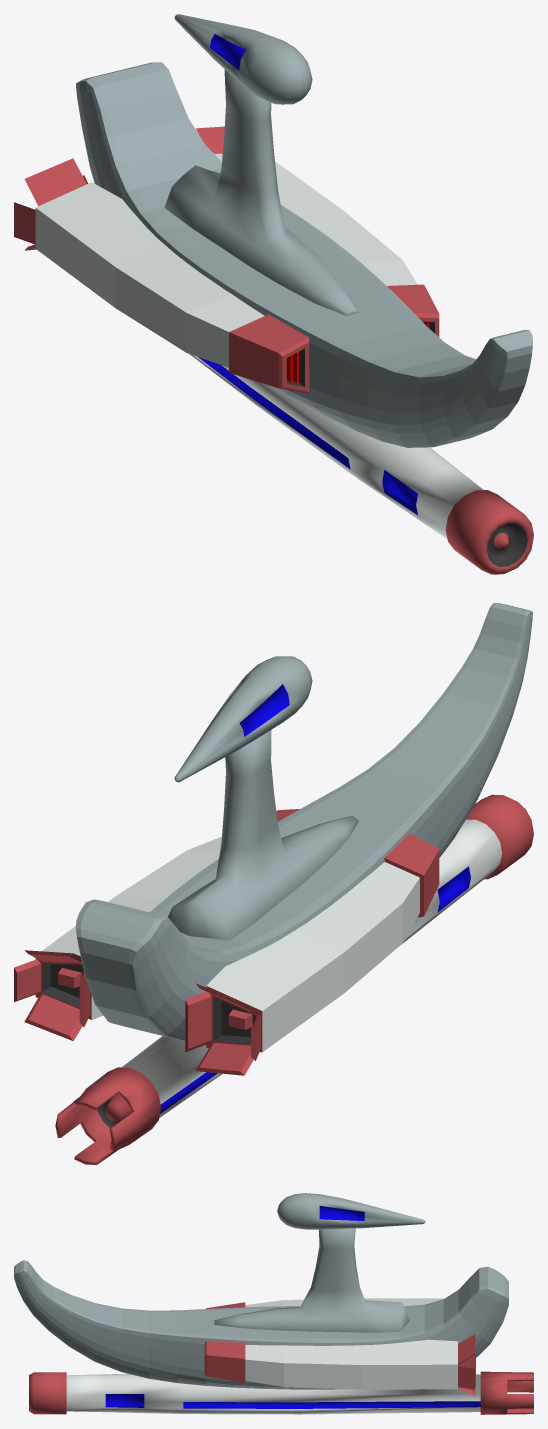
The model's file is boat.fbx.
3 renders of one model, top to bottom at view 1: azimuth 30°, elevation 25°; view 2: azimuth 150°, elevation 25°; view 3: azimuth 270°, elevation 25°, orthographic. The views are drawn at different scales.
Parts seen in each view (by area): view 1: Cube; view 2: Cube; view 3: Cube.
Boxes of the visible parts, x1=… form: Cube: x1=14, y1=14, x2=533, y2=574; Cube: x1=14, y1=603, x2=533, y2=1164; Cube: x1=14, y1=1193, x2=533, y2=1414.
Bounding box in the file's own units: 477 × 686 × 1484.
